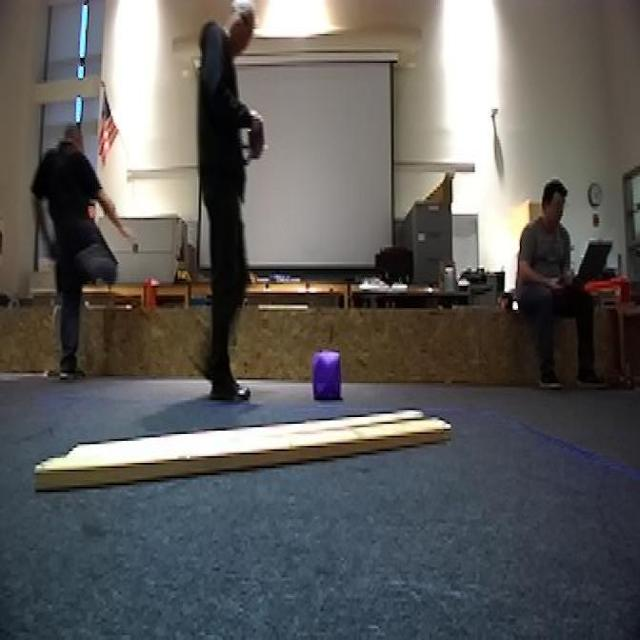frc_cube: (308, 352, 344, 400)
